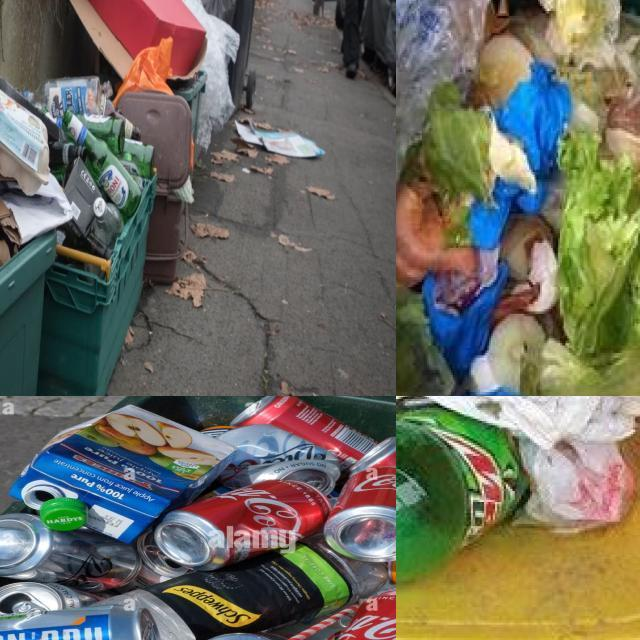Garbage: (396, 0, 640, 396), (0, 396, 396, 640), (396, 396, 640, 581), (0, 76, 153, 281)
Glass_bottle: (62, 108, 141, 220), (26, 76, 100, 121), (78, 113, 125, 156), (93, 197, 123, 250), (118, 138, 154, 179), (49, 140, 86, 170)
Plastic_Bag: (396, 0, 490, 179)
Plastic_Straw: (285, 604, 360, 640)
Plastic_bottle: (94, 536, 389, 640), (396, 405, 529, 579)
Tetrapack: (9, 405, 235, 542)
can: (154, 480, 330, 570), (0, 514, 139, 591), (231, 396, 378, 468), (220, 424, 341, 494), (325, 466, 396, 562), (0, 606, 154, 640), (0, 583, 99, 615), (137, 531, 194, 580)
